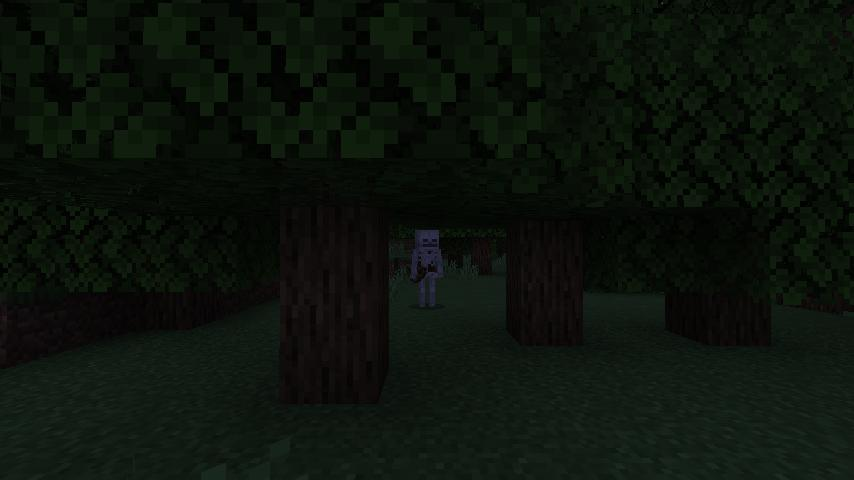skeleton: (408, 227, 445, 308)
